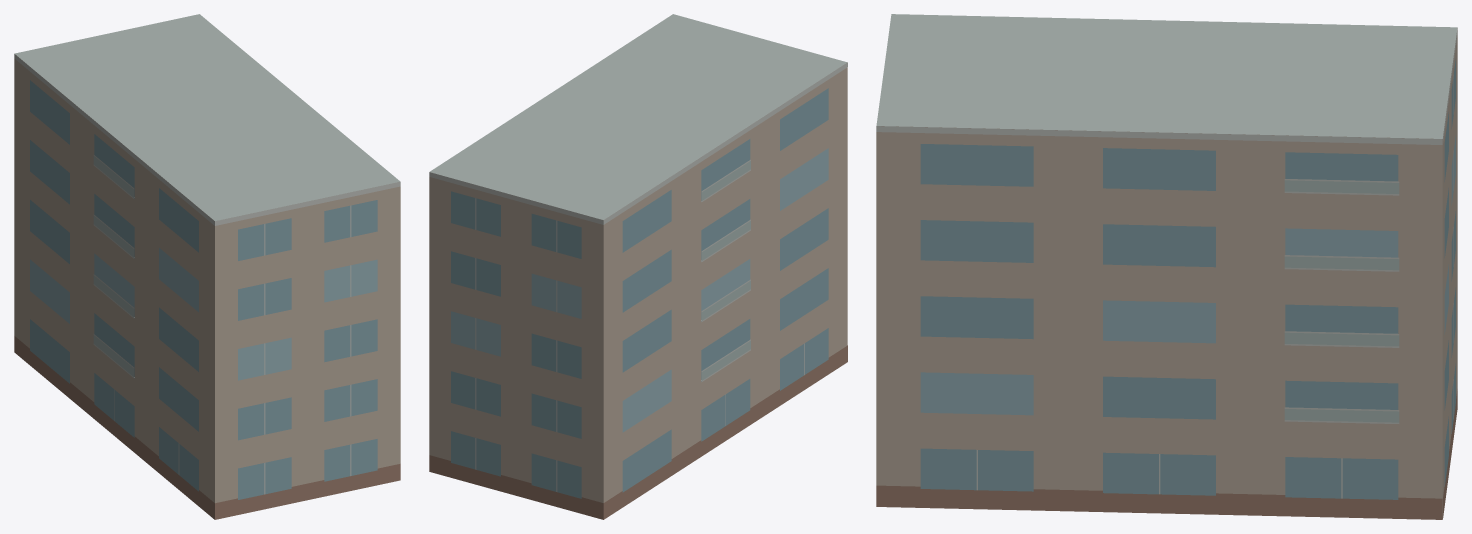
The model's file is survey-upis-32542907.glb.
3 renders of one model, left to right at view 1: azimuth 30°, elevation 25°; view 2: azimuth 150°, elevation 25°; view 3: azimuth 270°, elevation 25°, orthographic. The views are drawn at different scales.
Visible parts, largest first — view 1: survey-upis-32542907.tmp; view 2: survey-upis-32542907.tmp; view 3: survey-upis-32542907.tmp.
Part boxes in pixels (box(x1,y1,x2,y2)): survey-upis-32542907.tmp: box(14, 14, 400, 519); survey-upis-32542907.tmp: box(429, 14, 847, 519); survey-upis-32542907.tmp: box(876, 14, 1457, 519).
Size of the model in its own units: 10.74 by 15.25 by 21.1.
